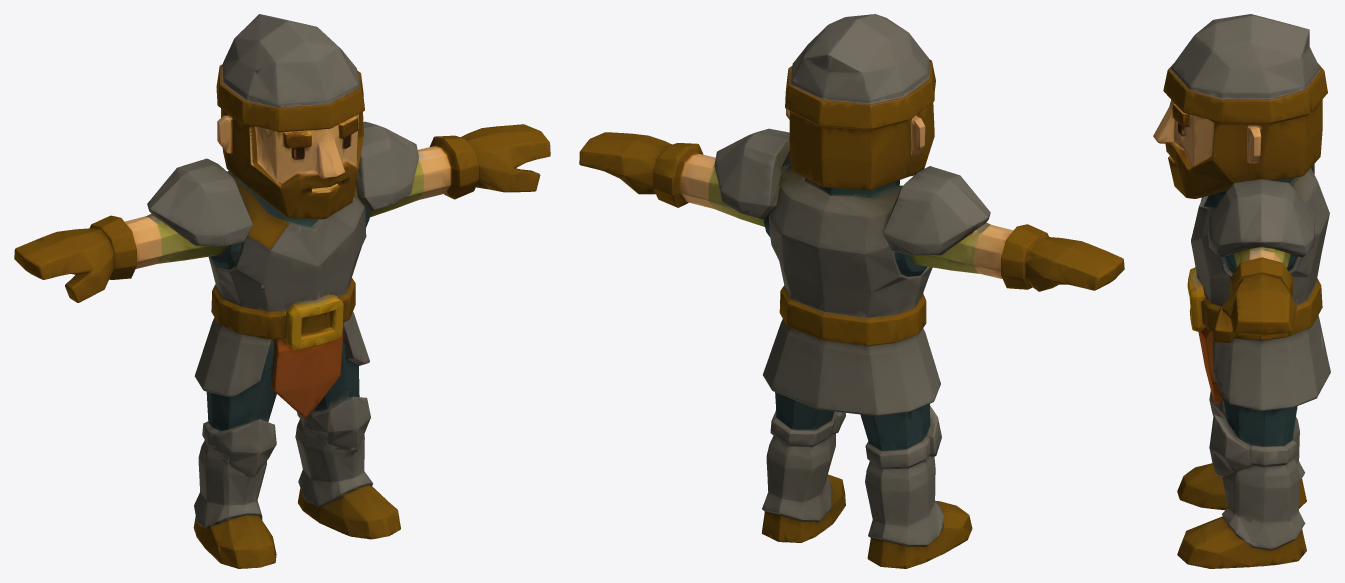
Rendered from Cleric.fbx.
The picture shows the model from 3 angles, left to right: view 1: azimuth 30°, elevation 25°; view 2: azimuth 150°, elevation 25°; view 3: azimuth 270°, elevation 25°; orthographic projection.
Visible parts, largest first — view 1: material; view 2: material; view 3: material.
Boxes of the visible parts, x1=… form: material: x1=14, y1=14, x2=550, y2=568; material: x1=579, y1=14, x2=1124, y2=568; material: x1=1153, y1=14, x2=1330, y2=568.
Size of the model in its own units: 115 by 108 by 34.04.
1 material, 1 textured.
